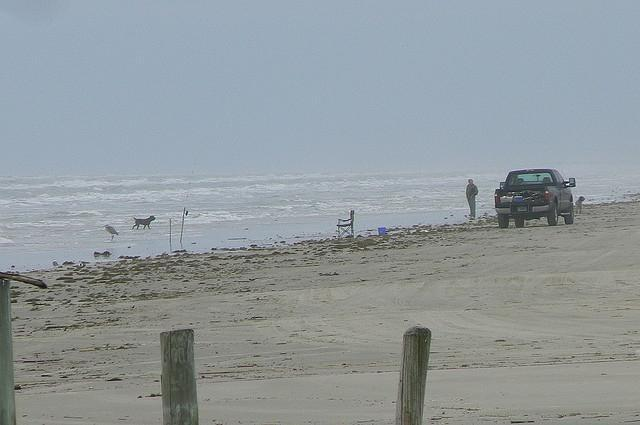truck: (495, 169, 576, 228)
